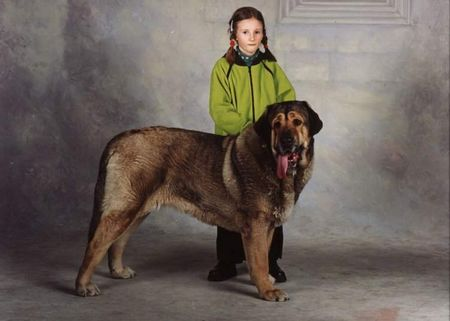human_face: (235, 20, 263, 53)
mastin_espanol: (72, 99, 323, 301)
person: (206, 6, 295, 283)
